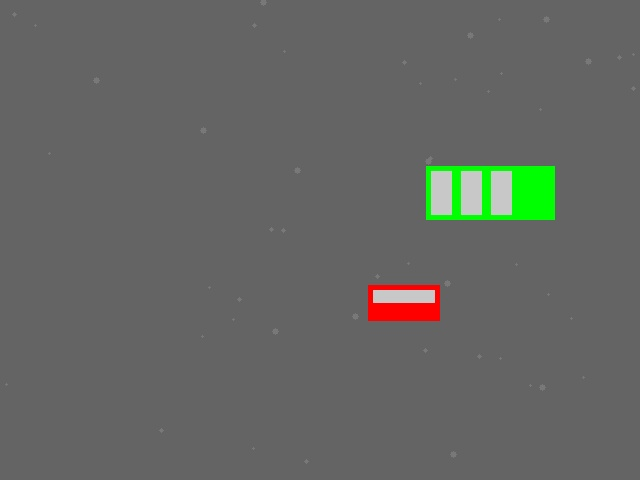bus: (426, 166, 554, 219)
car: (368, 285, 439, 320)
